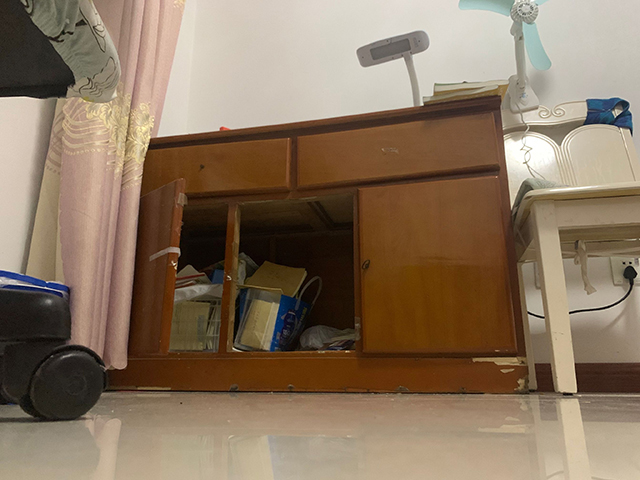cabinet: (104, 94, 533, 395)
curtain: (23, 1, 186, 373)
stool: (500, 97, 640, 398)
